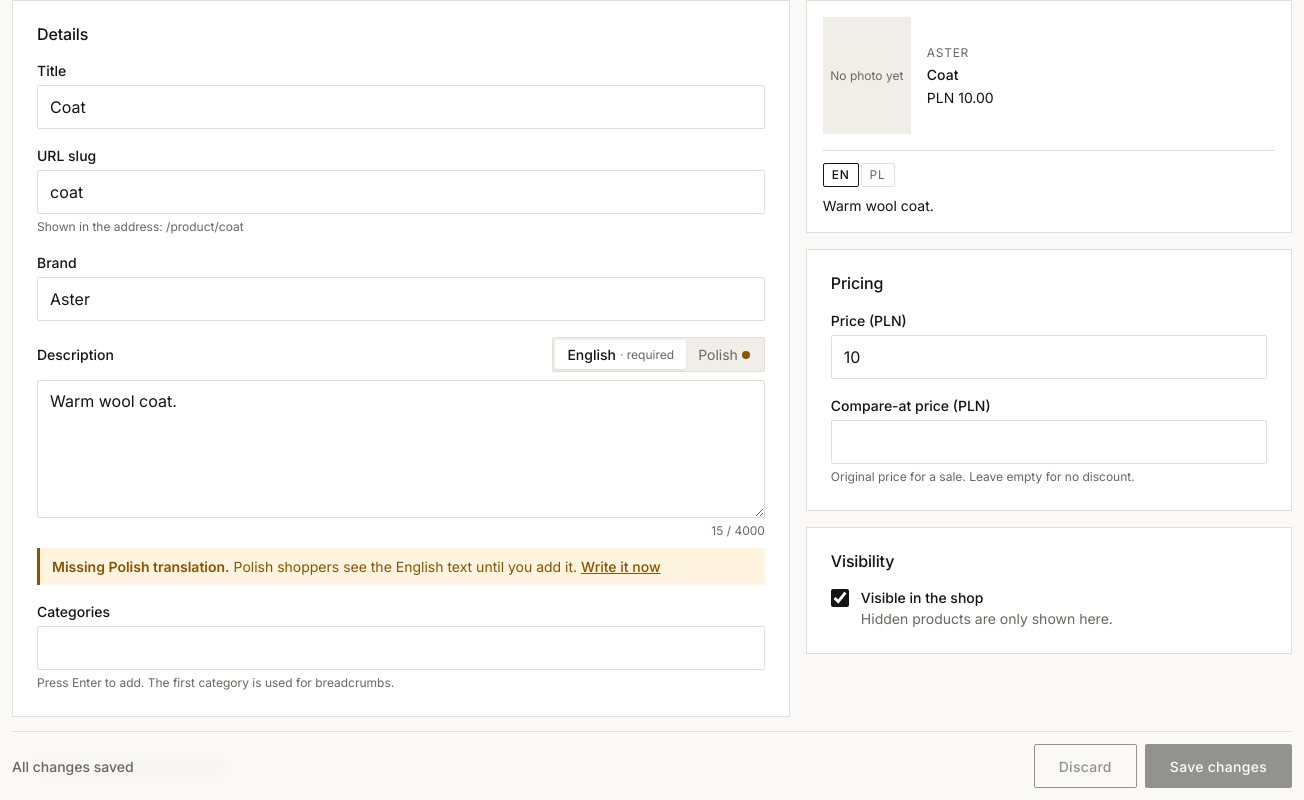
Test: ProductForm › description in English and Polish › edits each language in its own tab and flags the missing Polish text
Later steps or results of the test are not shown.
Expected: the element that starts with "Missing Polish translation." is shown, top-left (52, 558), bottom-right (230, 575)
Expected: the text box named "Description (English)" holds "Warm wool coat.", top-left (37, 380), bottom-right (765, 518)
Step 1. Click the tab "Polish" → point(724, 355), box top-left (686, 340), bottom-right (762, 369)
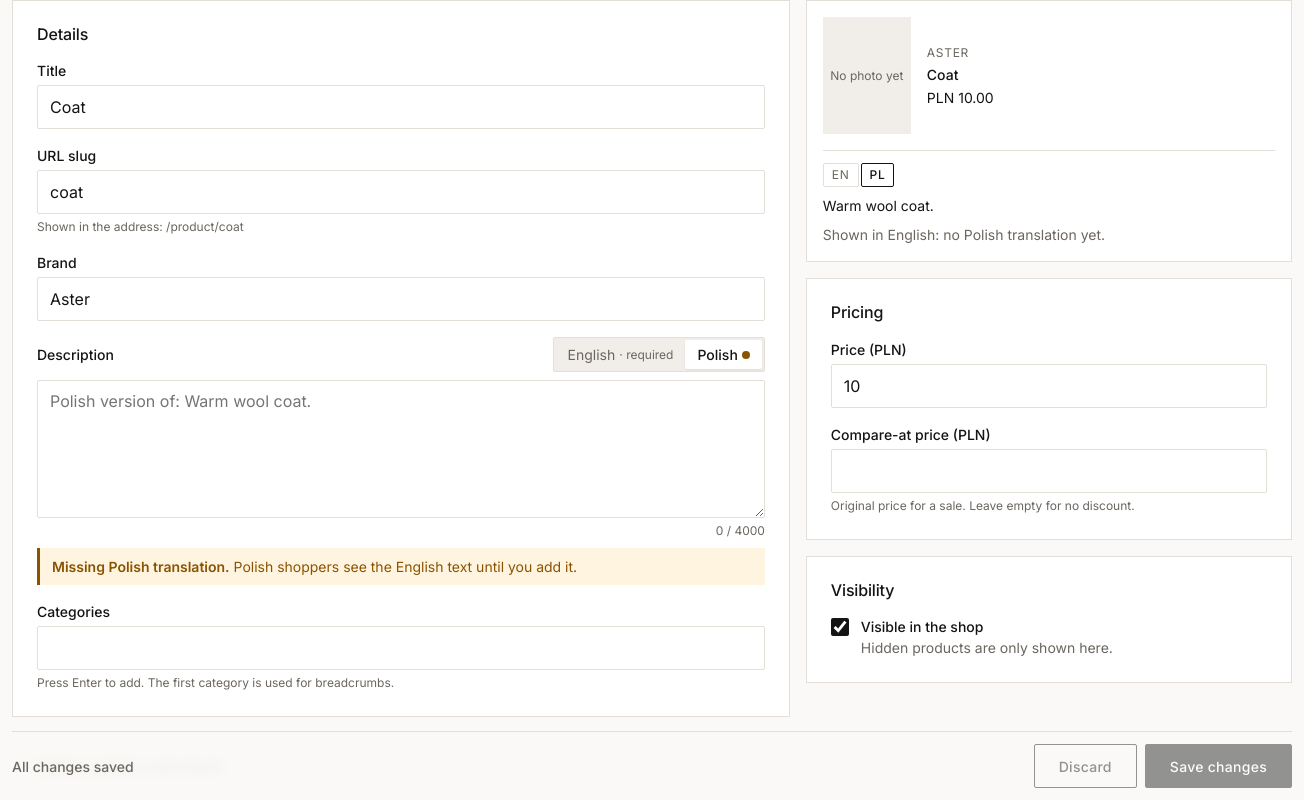
Expected: the tab "Polish" is selected, top-left (686, 340), bottom-right (762, 369)
